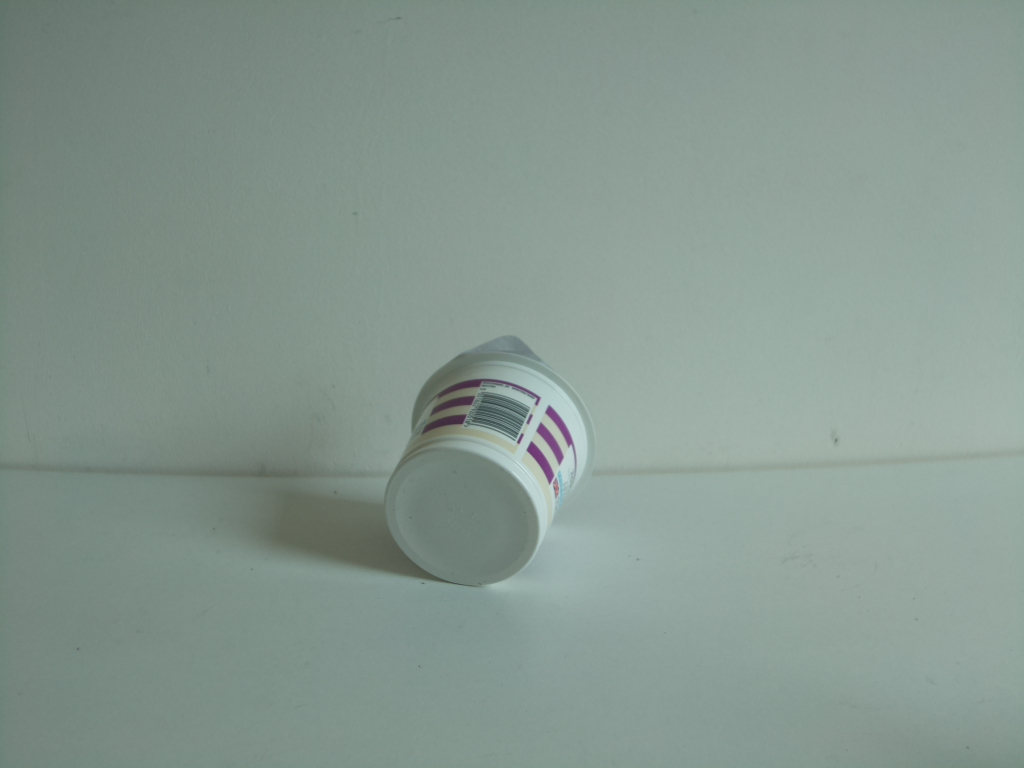cream: (377, 335, 601, 594)
